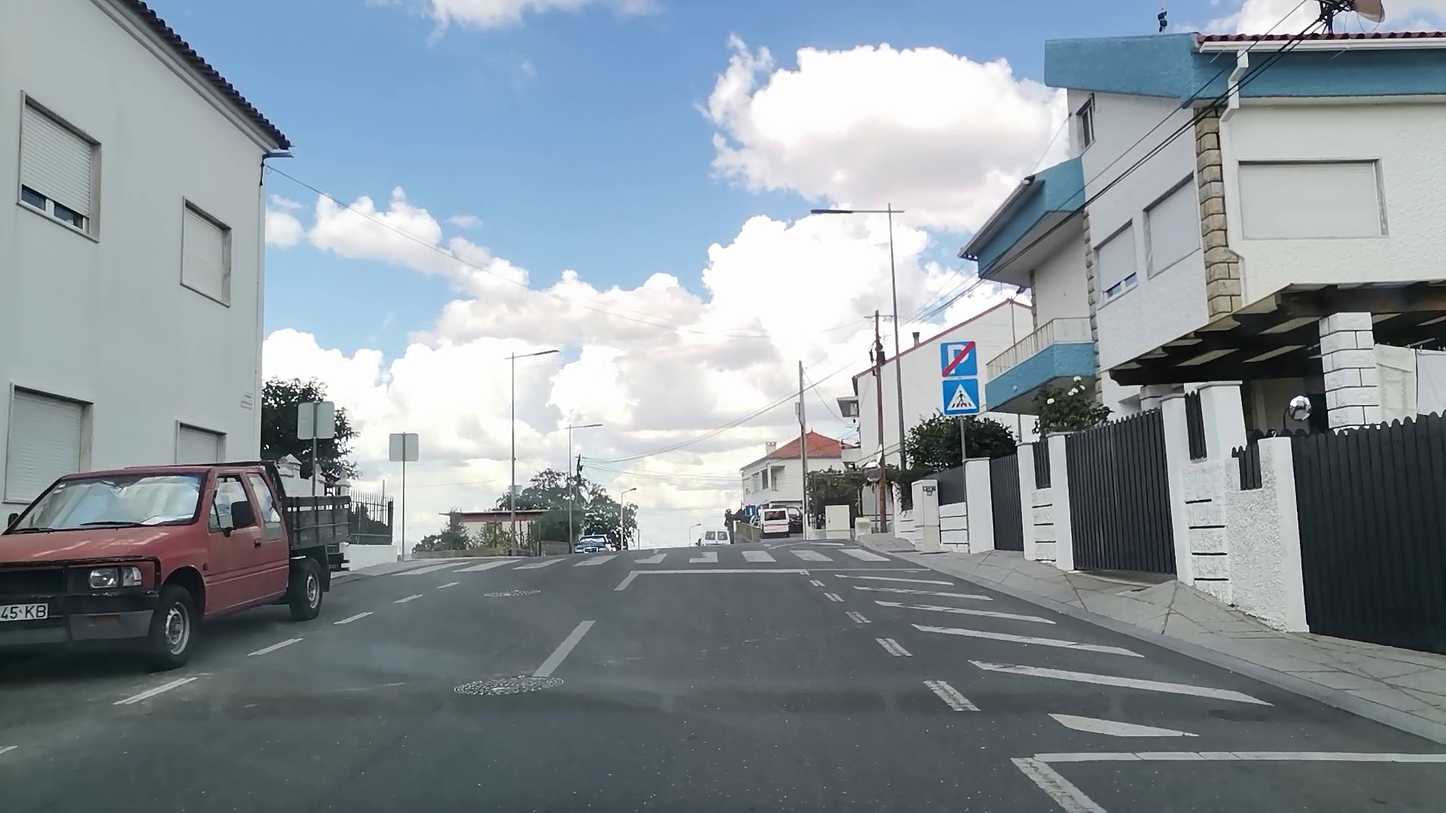Stairs: (395, 543, 889, 575)
